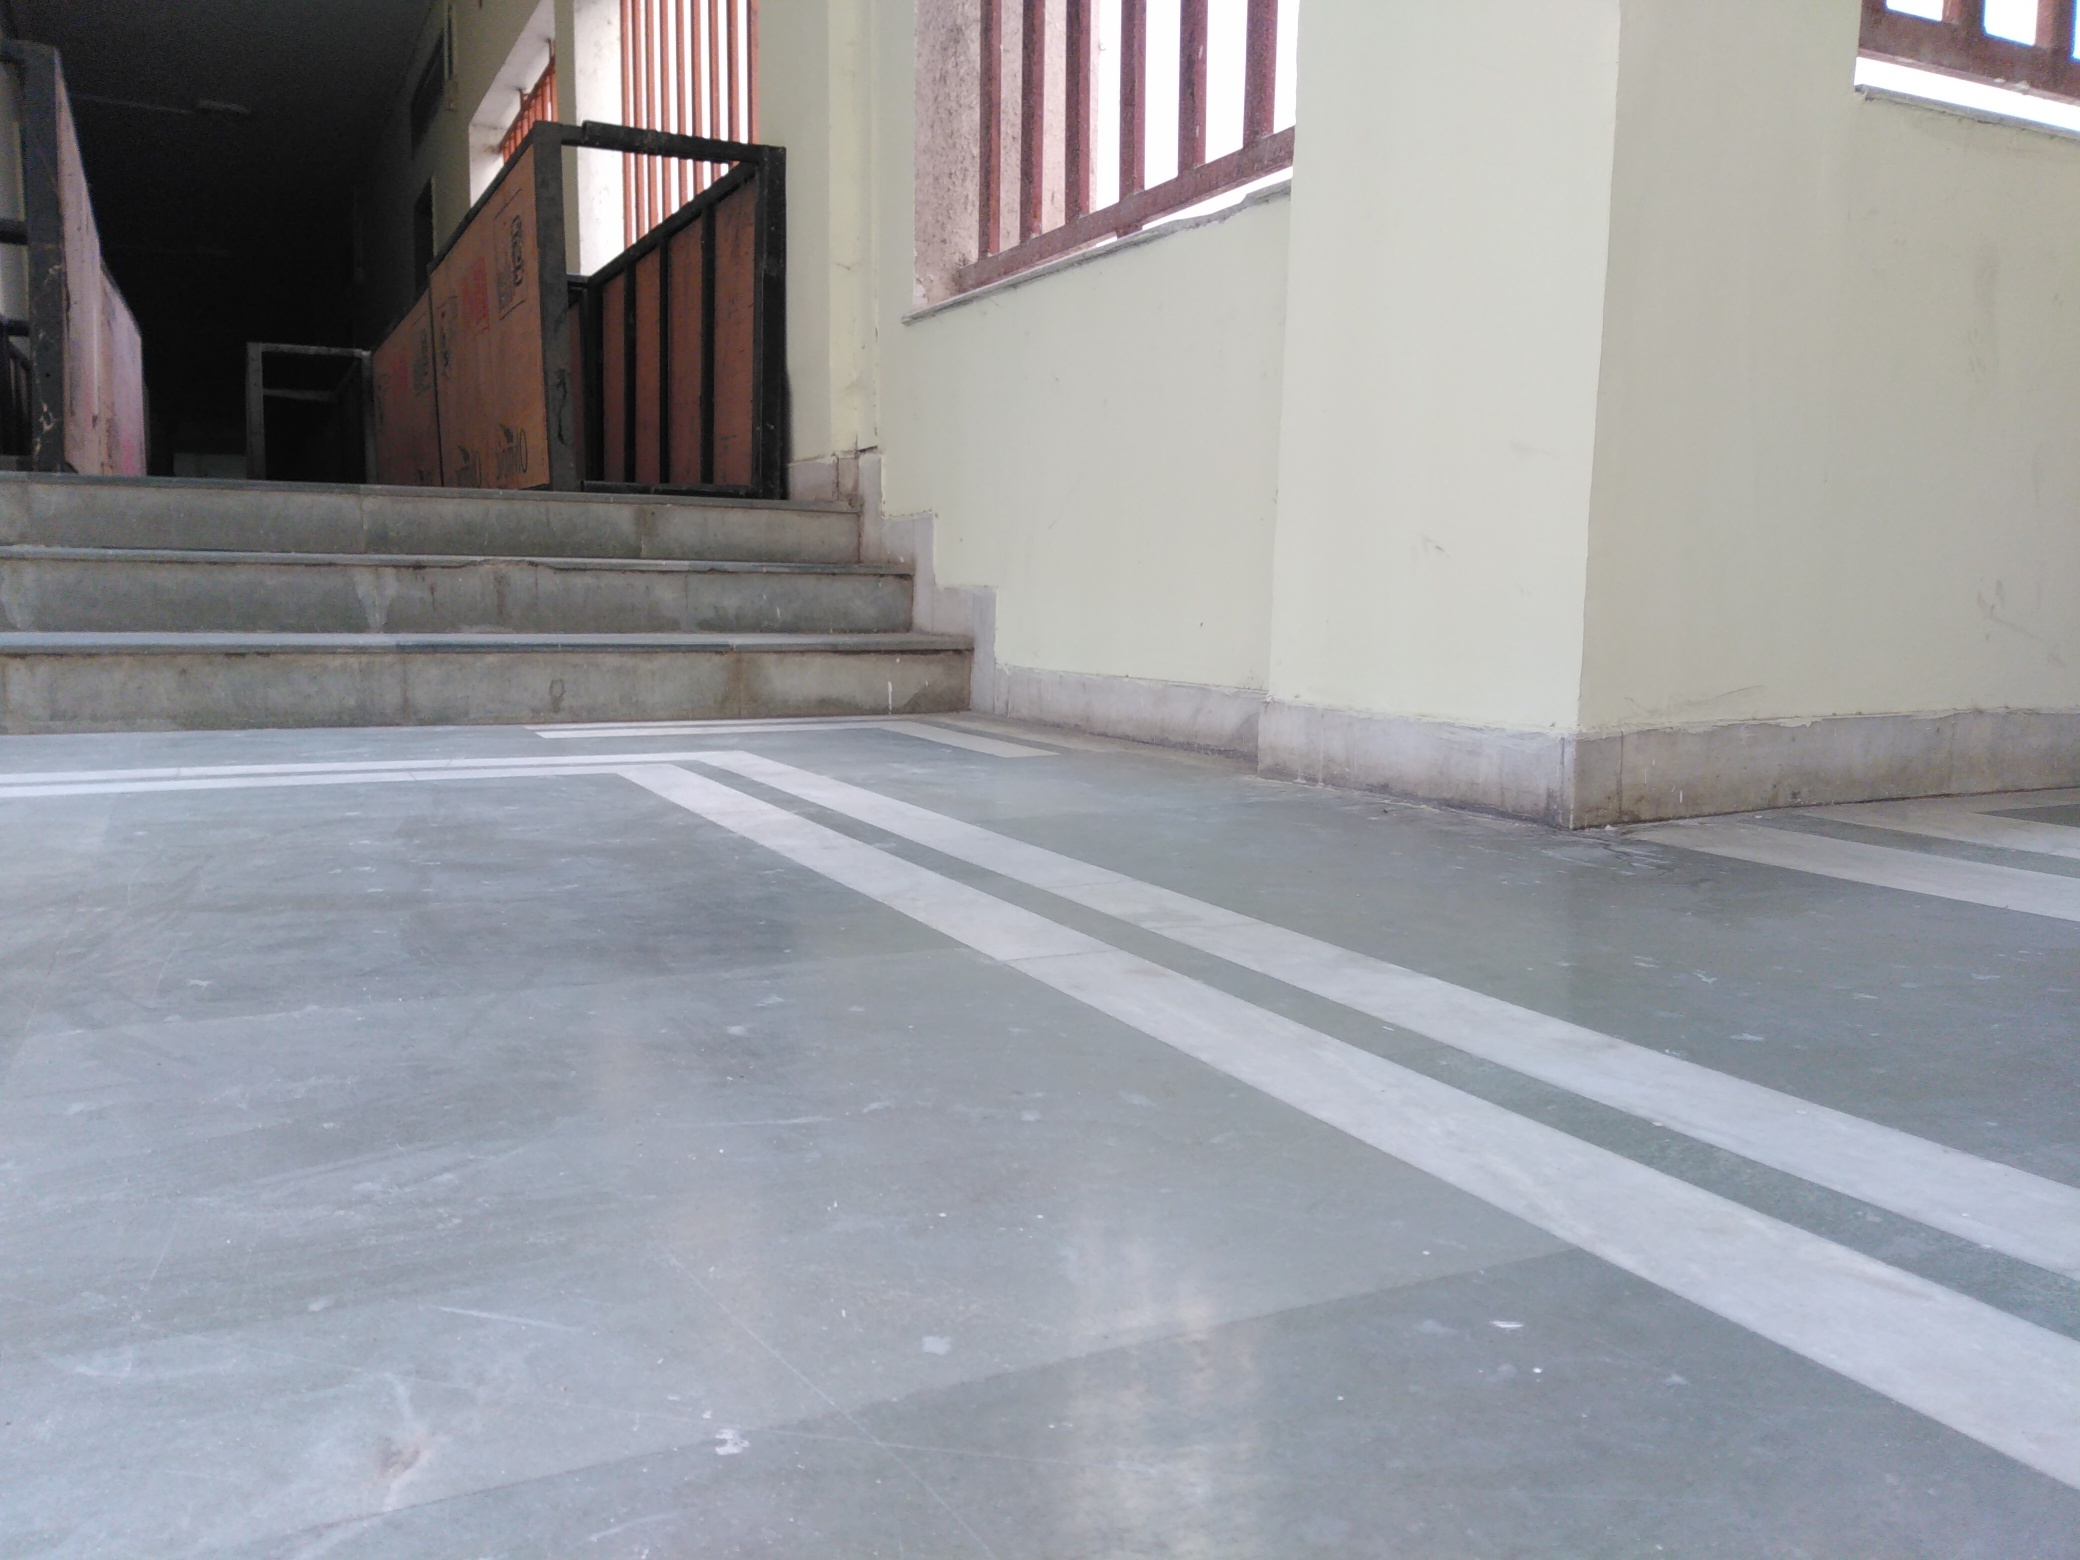stairs_up: (10, 465, 979, 729)
